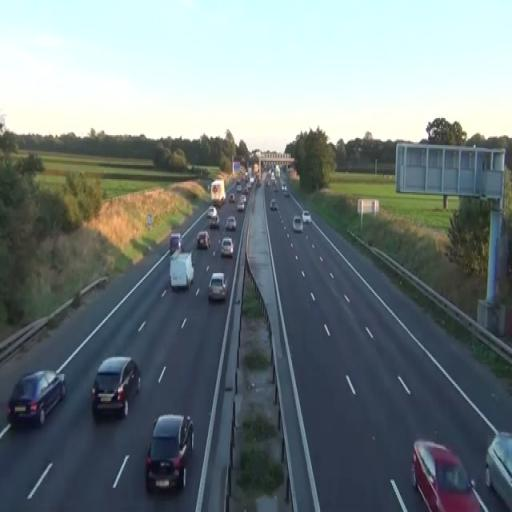Car: (410, 439, 486, 512), (145, 413, 195, 493), (6, 368, 66, 428), (90, 356, 141, 420), (484, 431, 512, 511), (208, 272, 227, 302), (220, 237, 234, 259), (208, 206, 220, 228), (197, 230, 210, 250), (226, 216, 236, 231), (302, 211, 312, 224)
Truck: (169, 252, 194, 292), (211, 178, 226, 206)
